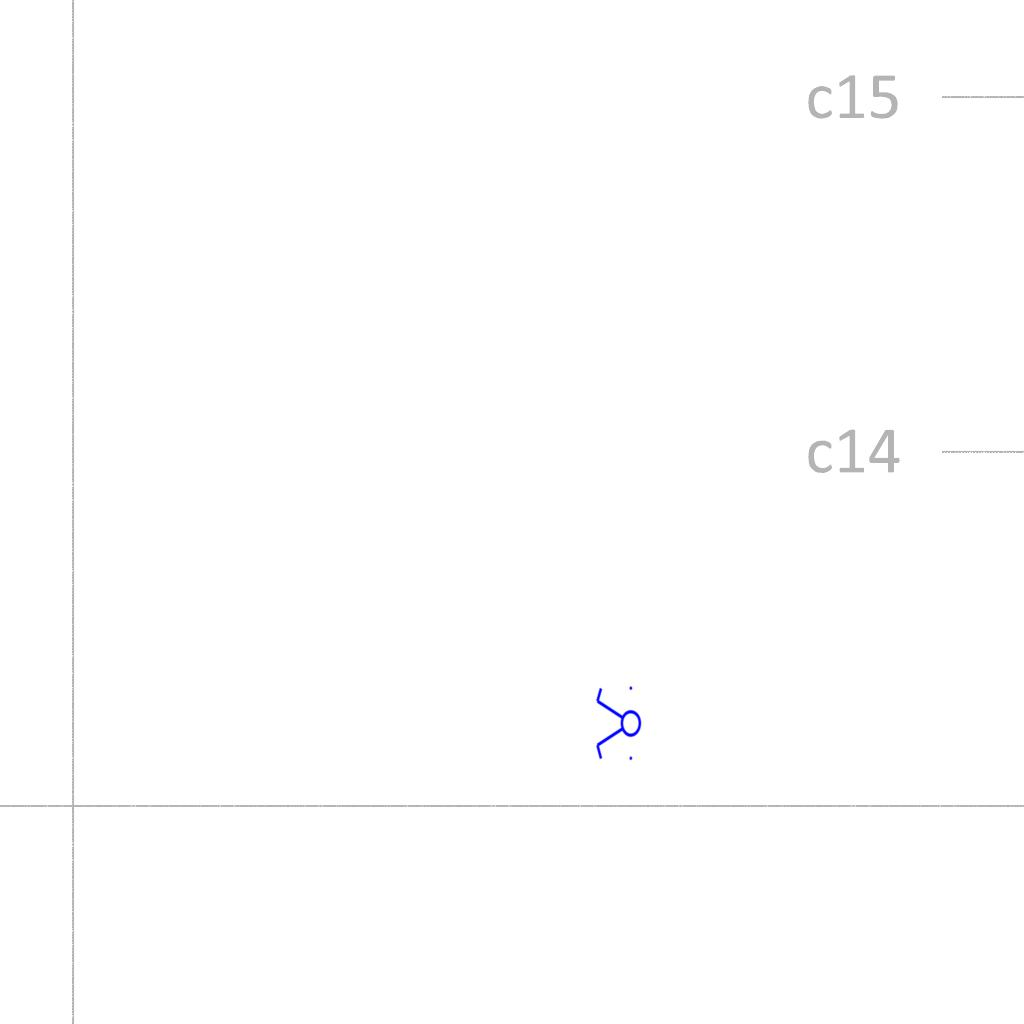Serienschalter: (594, 682, 642, 766)
